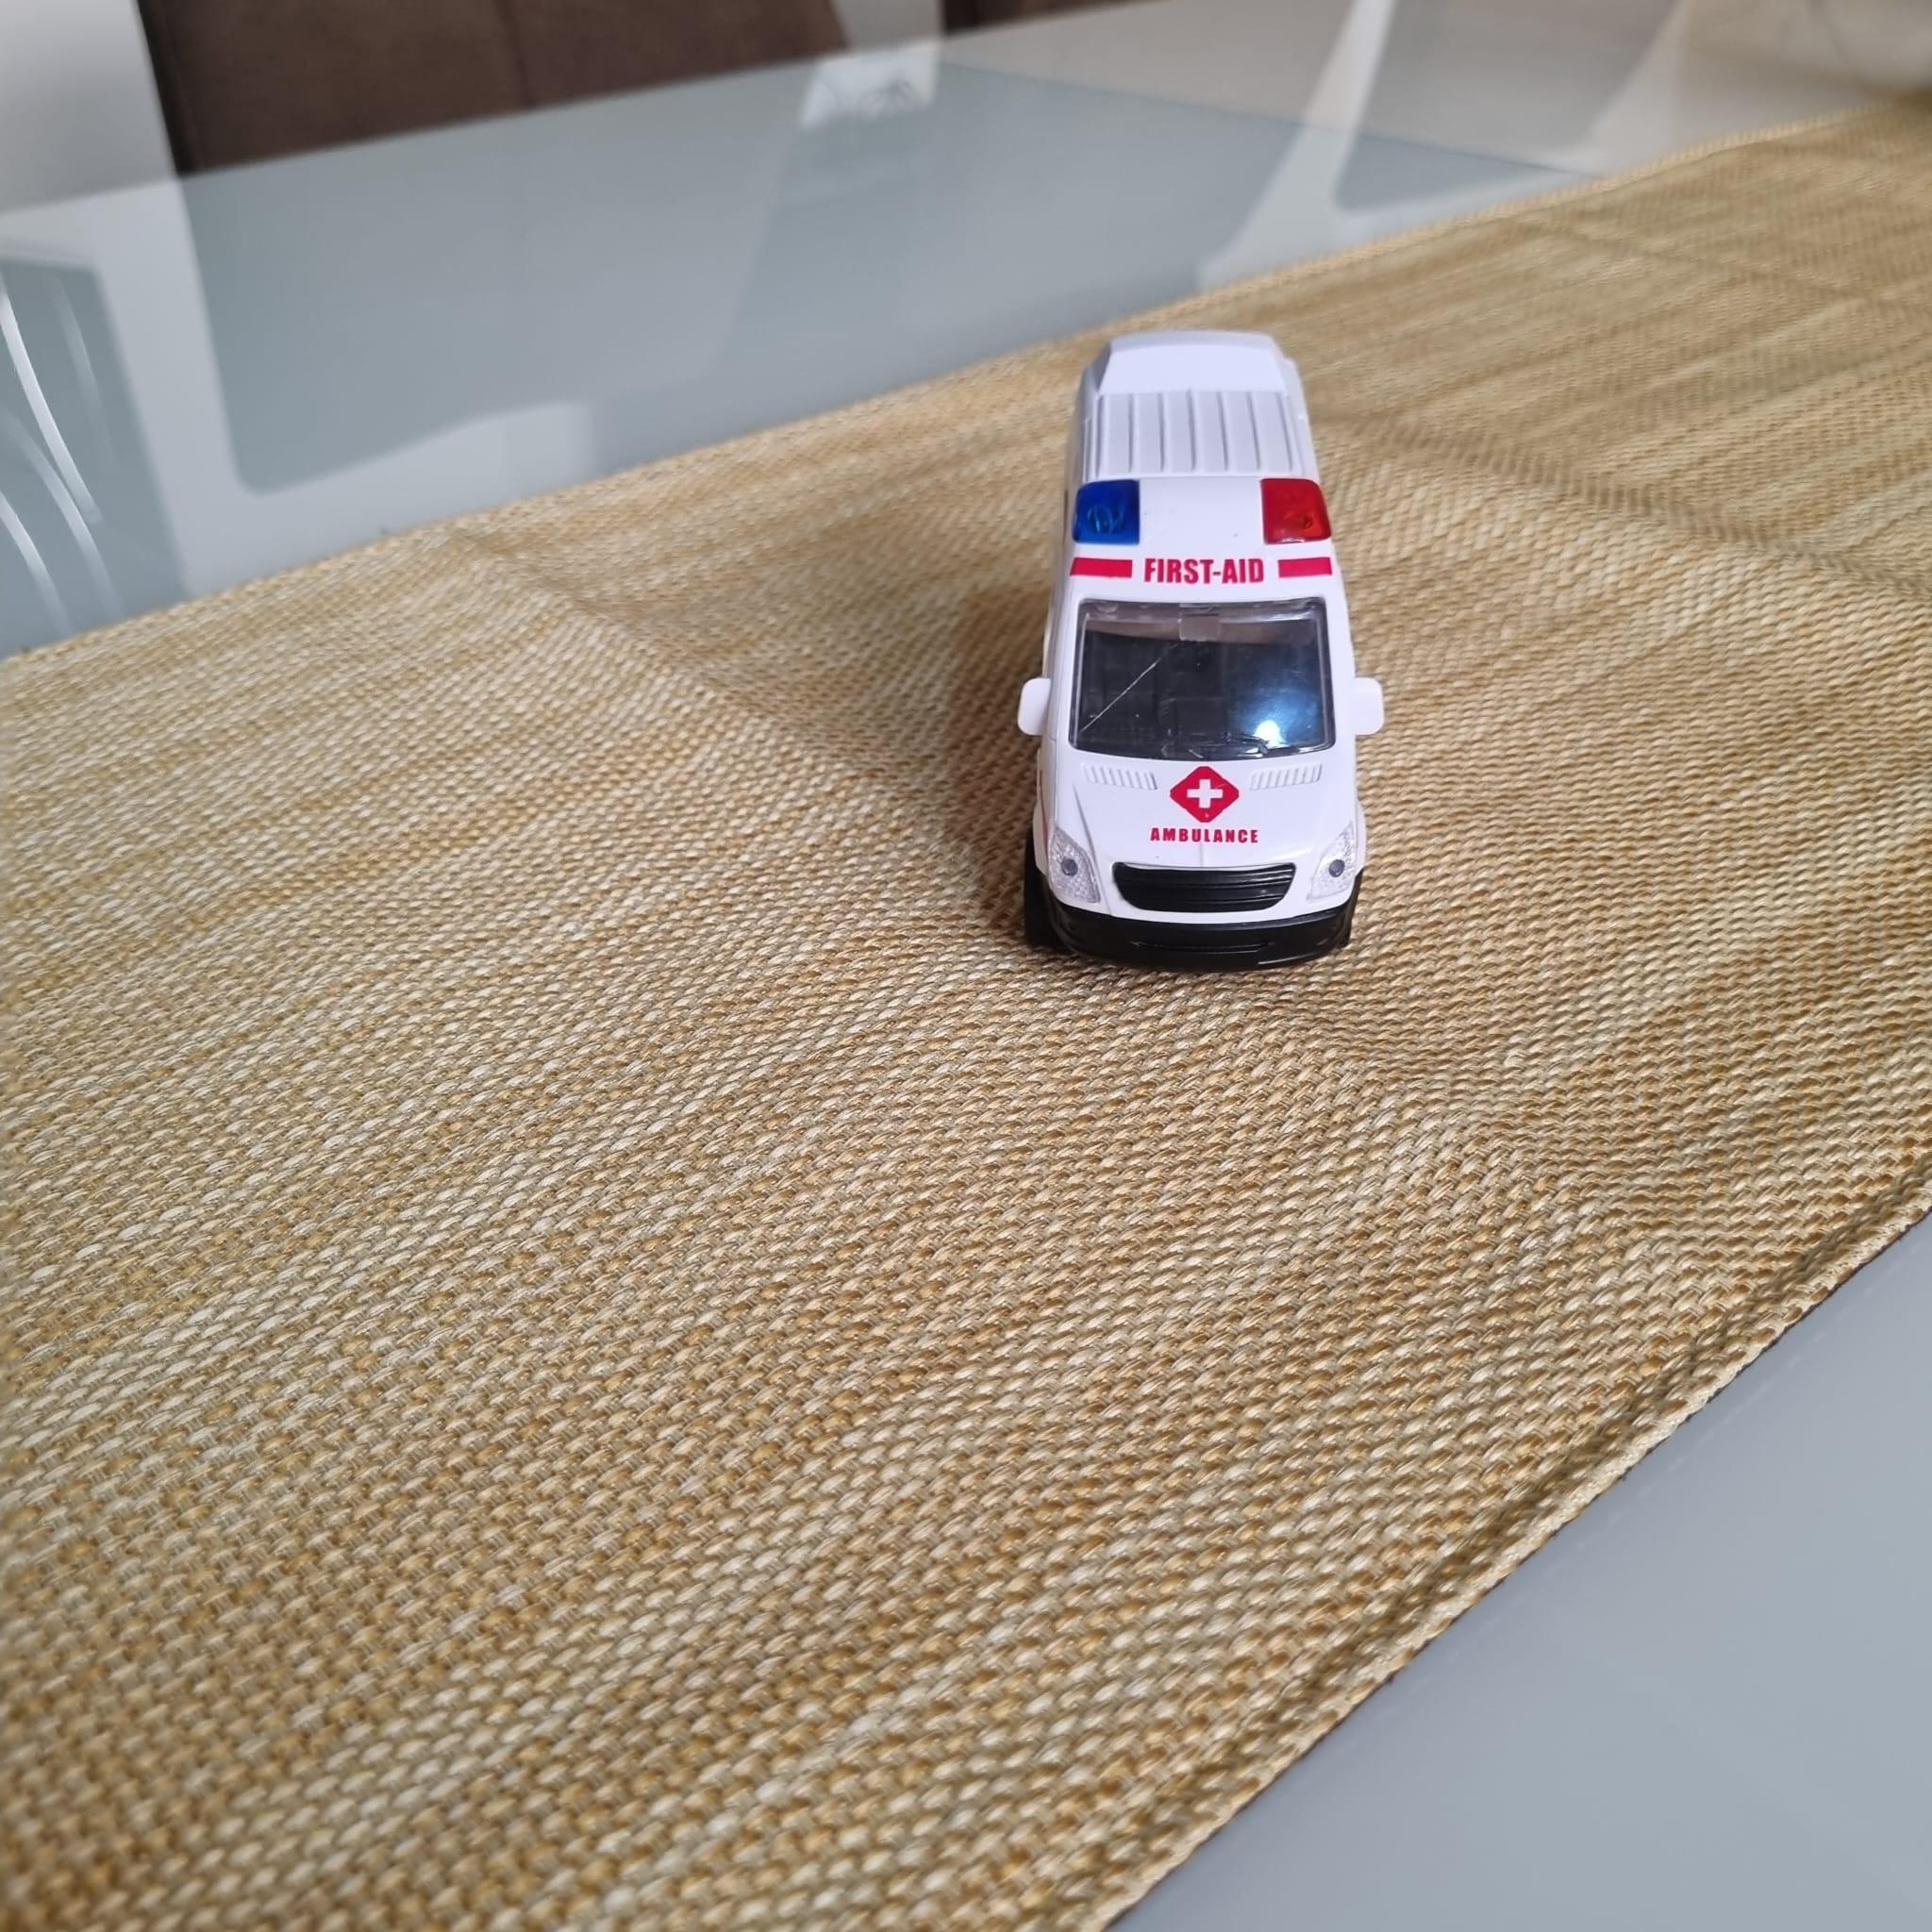ambulance_off: (1030, 331, 1380, 964)
